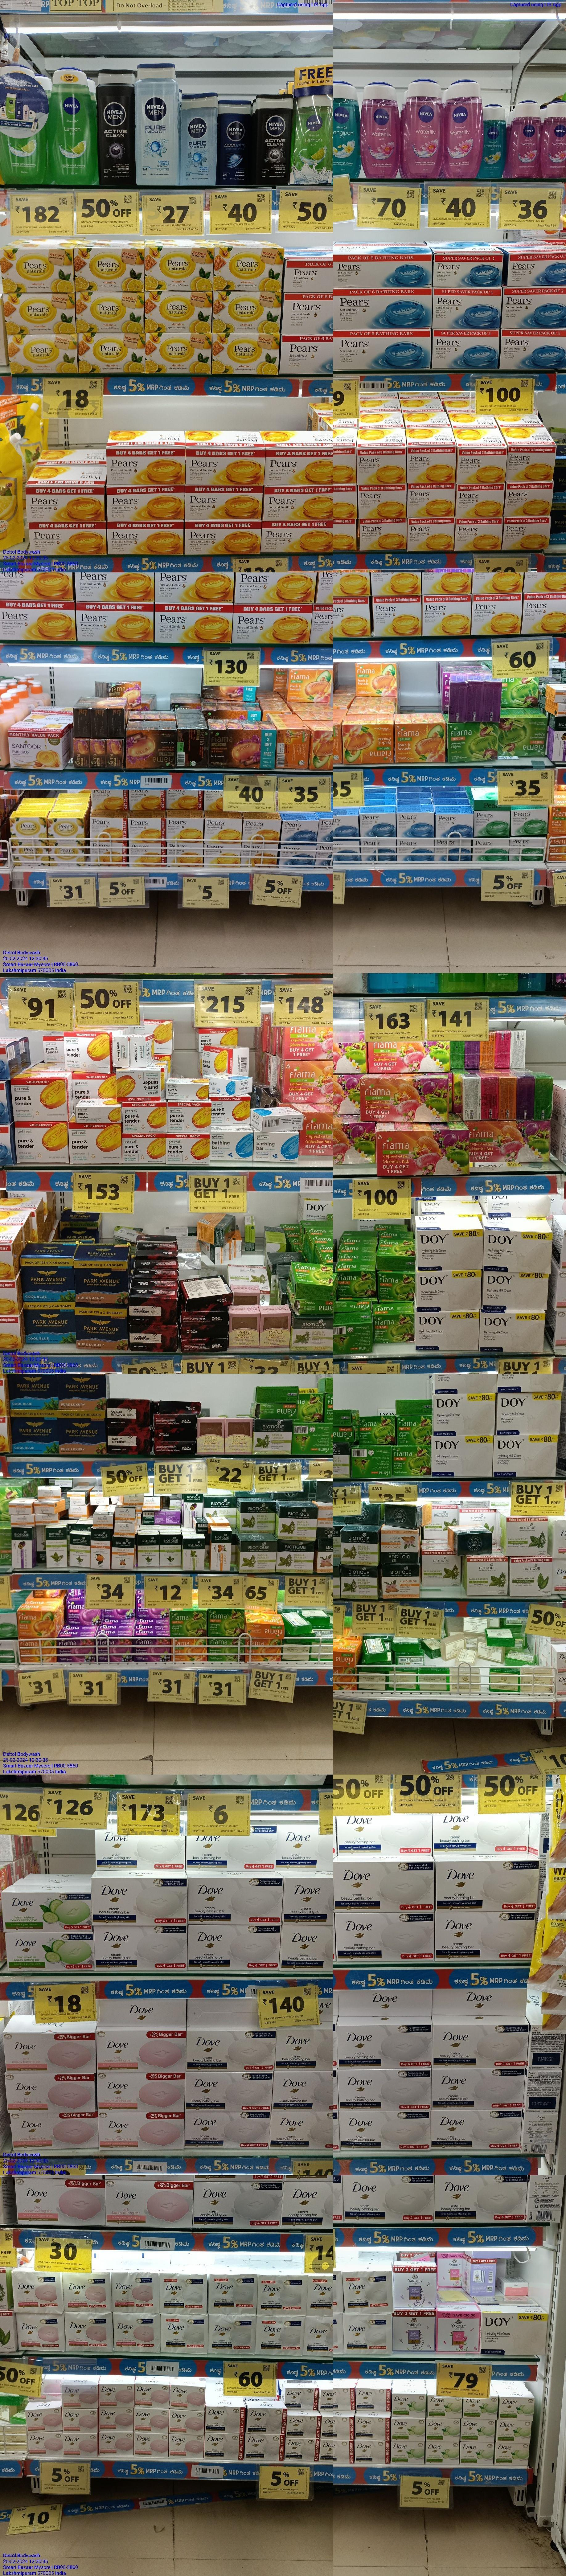Nivea_Shower_Gel_Frangipani_and_Oil_250ML: (332, 79, 360, 177)
Nivea_Shower_Gel_Lemon_and_Oil_250ML: (49, 67, 94, 186), (293, 95, 331, 184)
Nivea_Shower_Gel_Waterlily_and_Oil_250ML: (403, 79, 444, 177), (362, 82, 401, 177), (448, 79, 480, 177)
